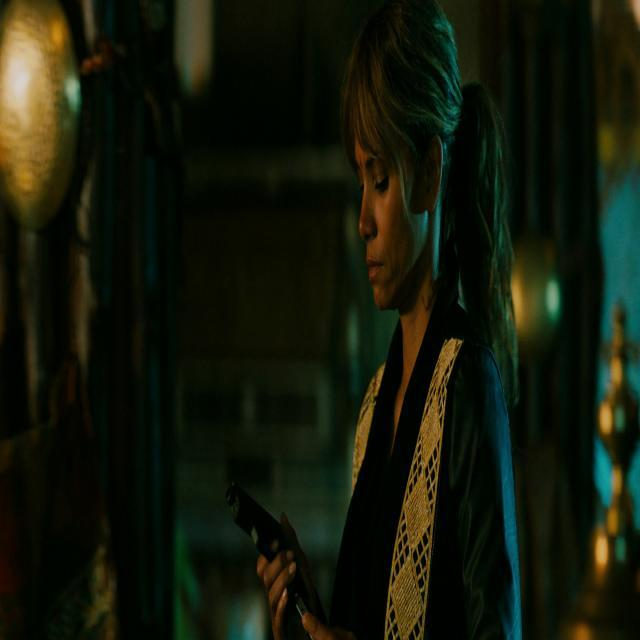gun-knife-thesis - v11 Yolov5 augmented: (228, 476, 312, 630)
